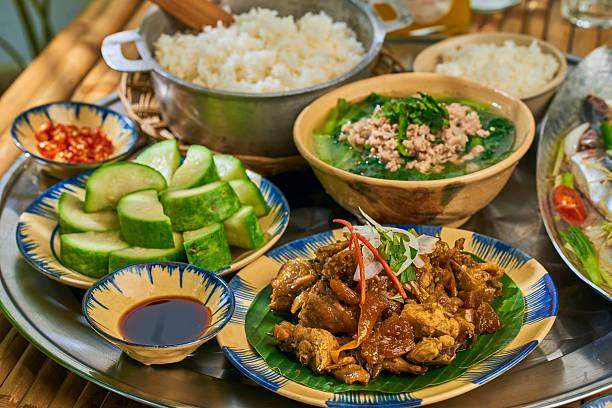Braised Crucian Carp: (217, 222, 549, 403), (111, 0, 403, 160), (292, 70, 537, 233), (13, 158, 279, 289)
